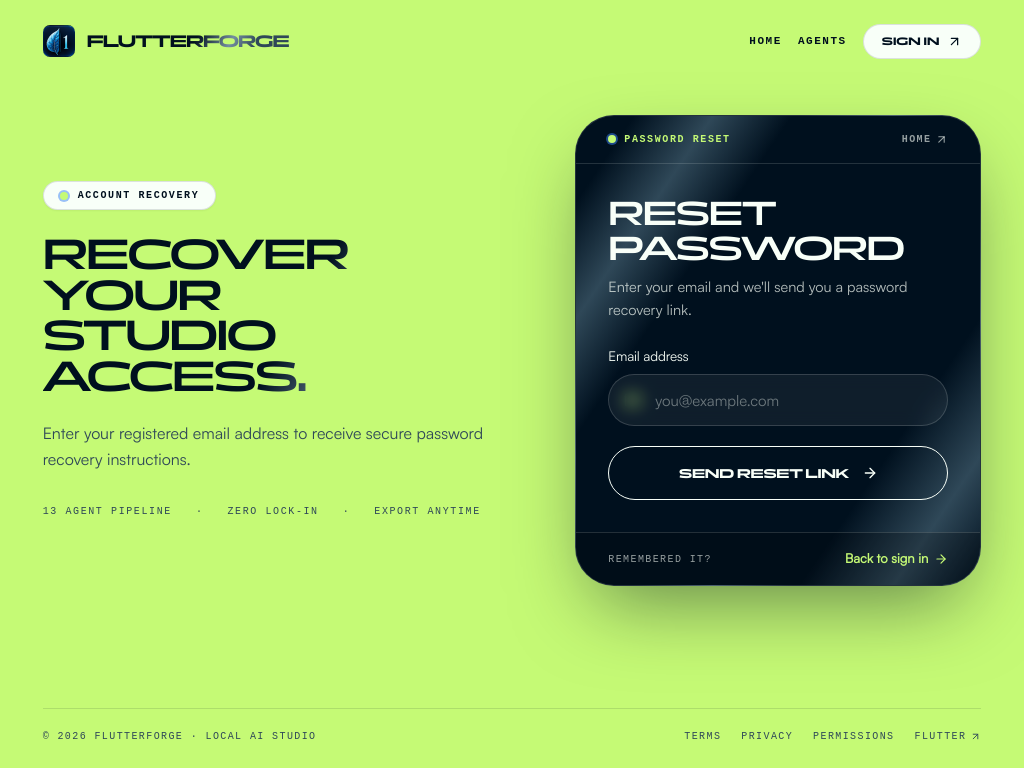
Test: ForgotPasswordPage › renders reset form and submits recovery request
The image size is (1024, 768).
Expected: the heading "Reset Password" is shown, [608,196,948,267]
Type "user@example.com" into the field labelled "Email address" at (778, 400), box [608,374,948,426]
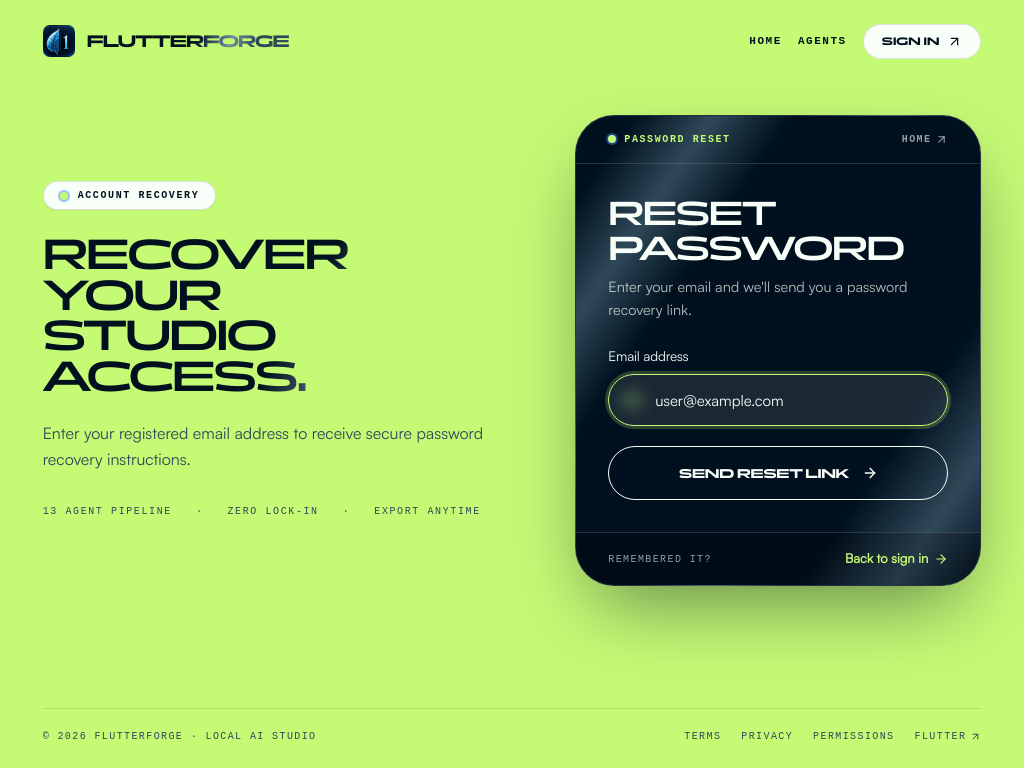
Click the button "Send Reset Link" at (778, 473), box [608,446,948,500]
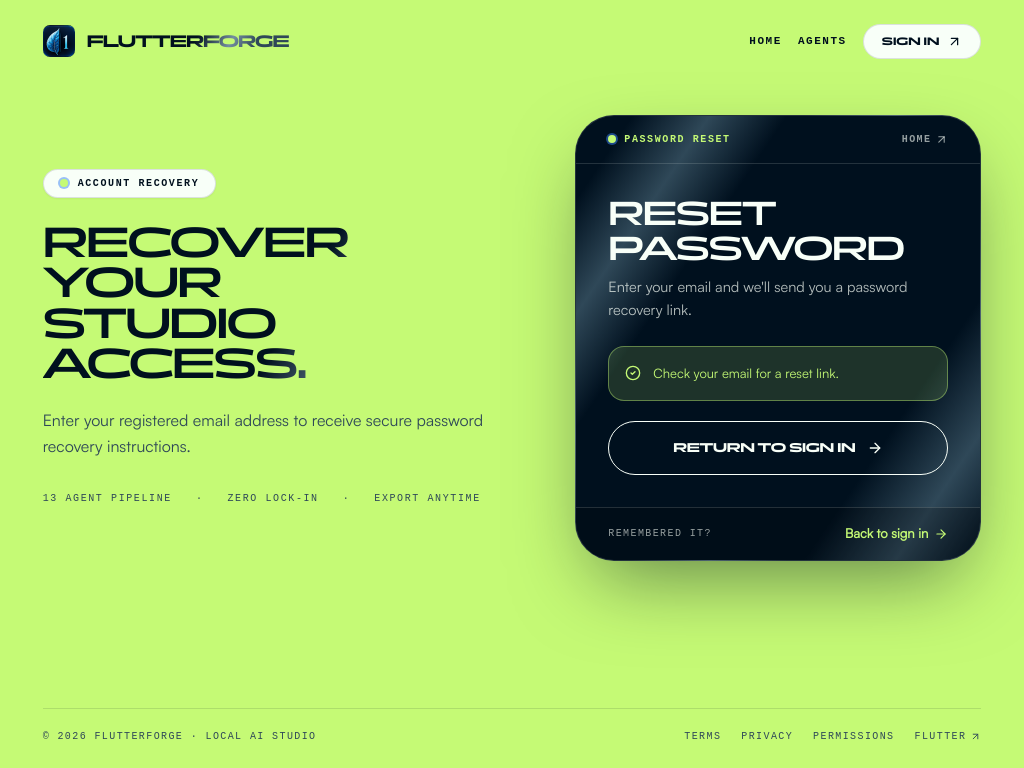
Expected: the message reads "Check your email for a reset link.", [653,365,839,381]
